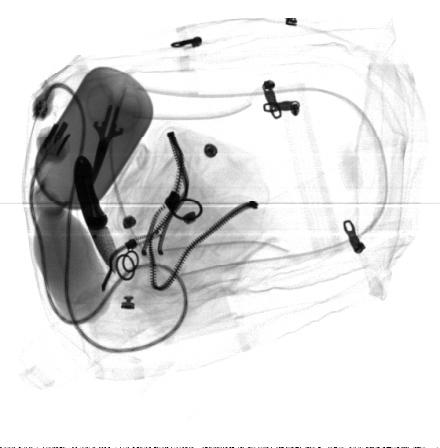Knife: (73, 155, 120, 274)
Scissors: (85, 80, 142, 196)
